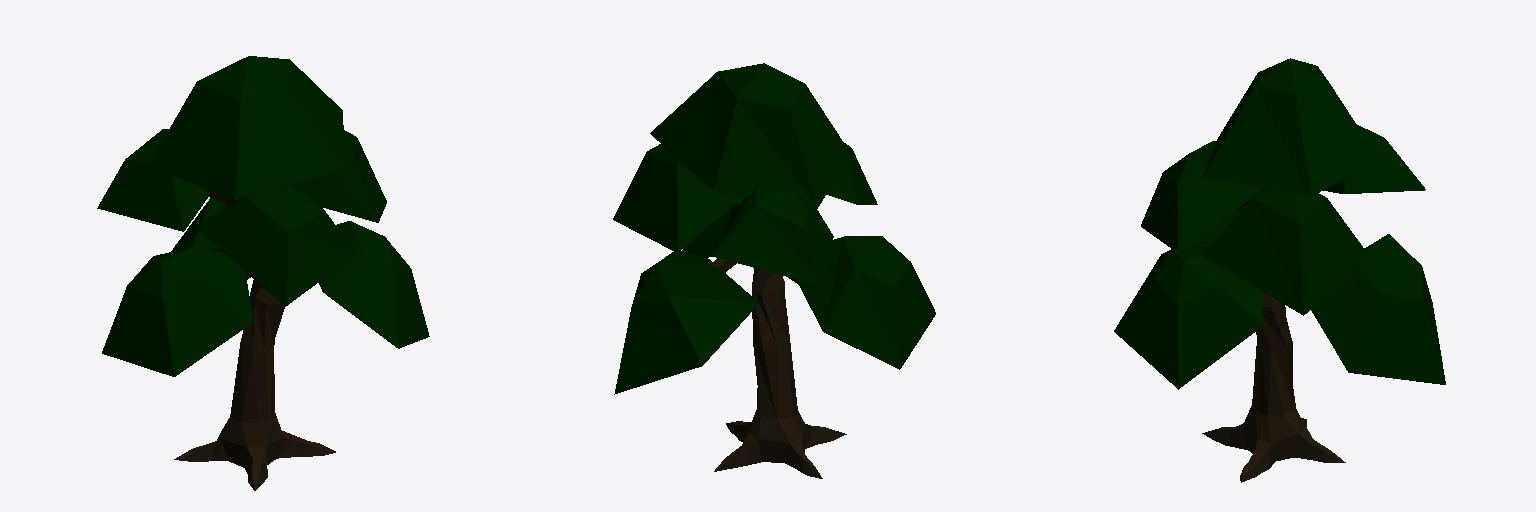
File: tree4.obj
3 renders of one model, left to right at view 1: azimuth 30°, elevation 25°; view 2: azimuth 150°, elevation 25°; view 3: azimuth 270°, elevation 25°, orthographic.
Size of the model in its own units: 409 by 537 by 411.